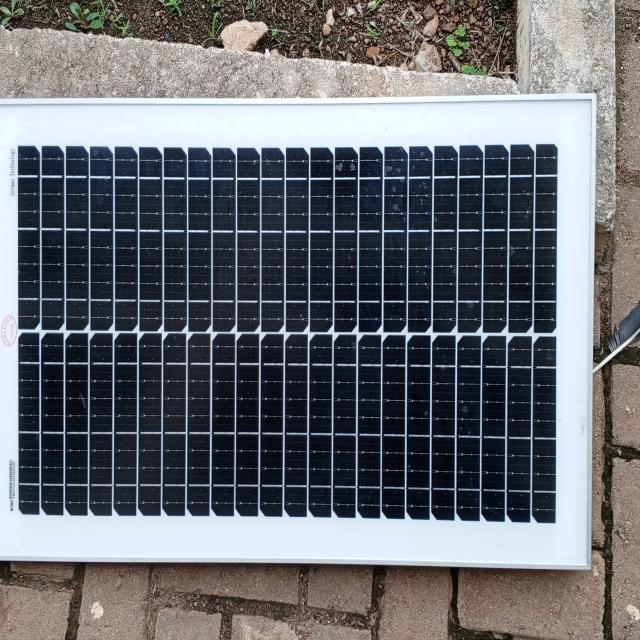Clean: (12, 122, 566, 542)
